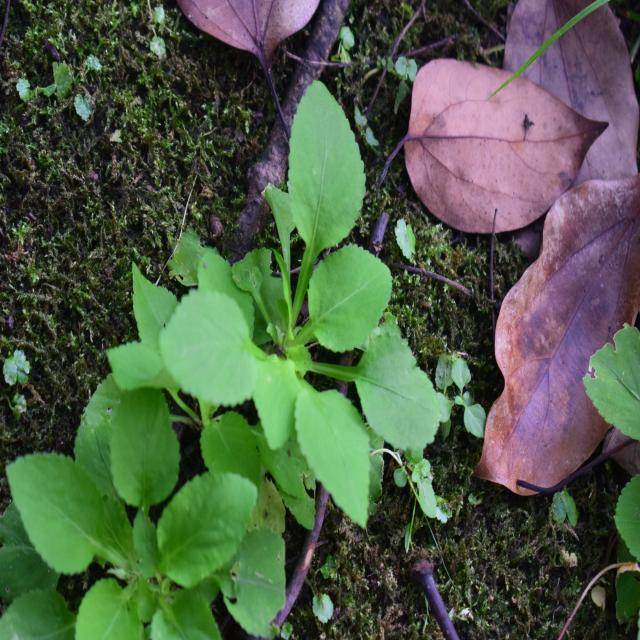Viola: (158, 121, 454, 529), (4, 363, 280, 618)
